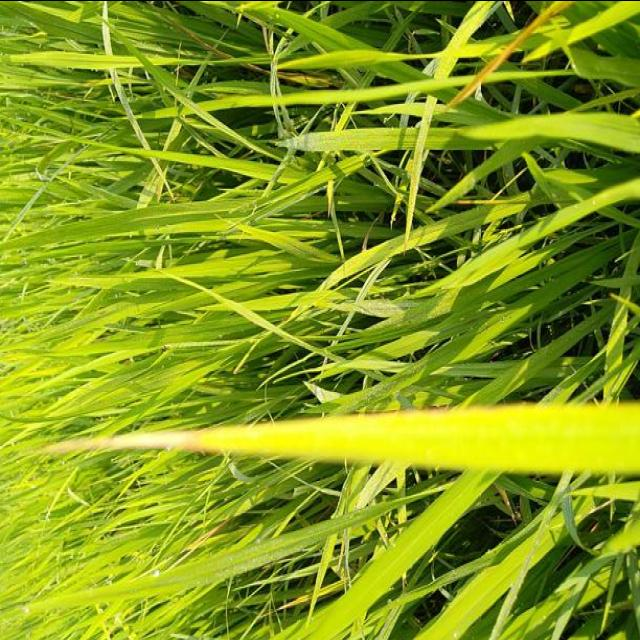Leaf Blight: (48, 412, 405, 462), (444, 0, 575, 111)
